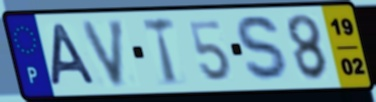5: (185, 19, 233, 83)
8: (286, 12, 332, 84)
A: (49, 21, 99, 88)
S: (235, 13, 295, 86)
T: (140, 15, 181, 88)
V: (79, 17, 128, 90)
